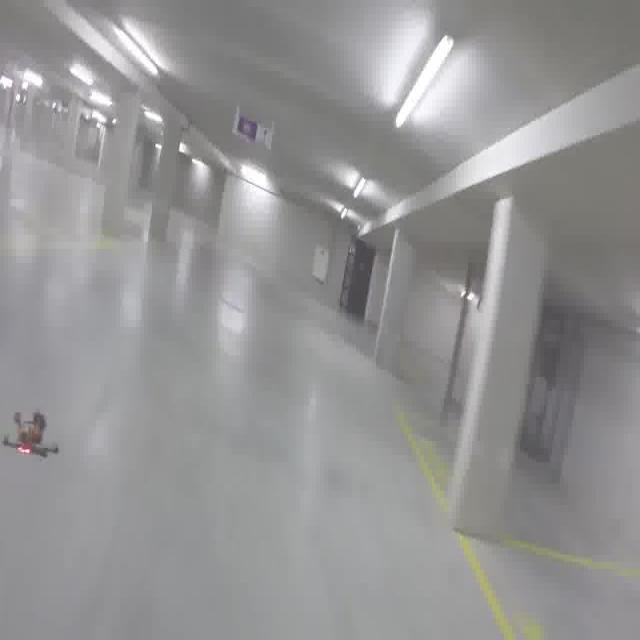drones: (3, 387, 59, 465)
